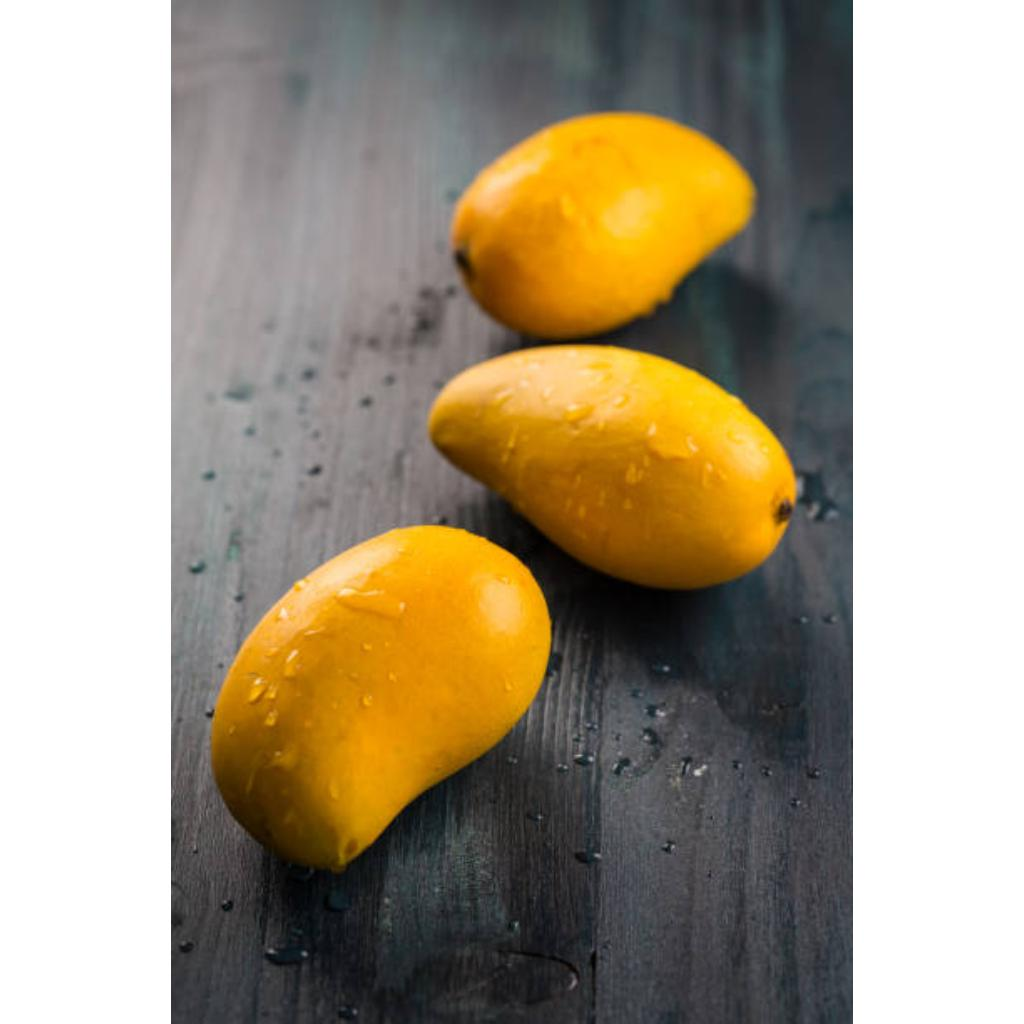mango: (213, 528, 551, 871), (429, 346, 797, 589), (451, 112, 755, 337)
